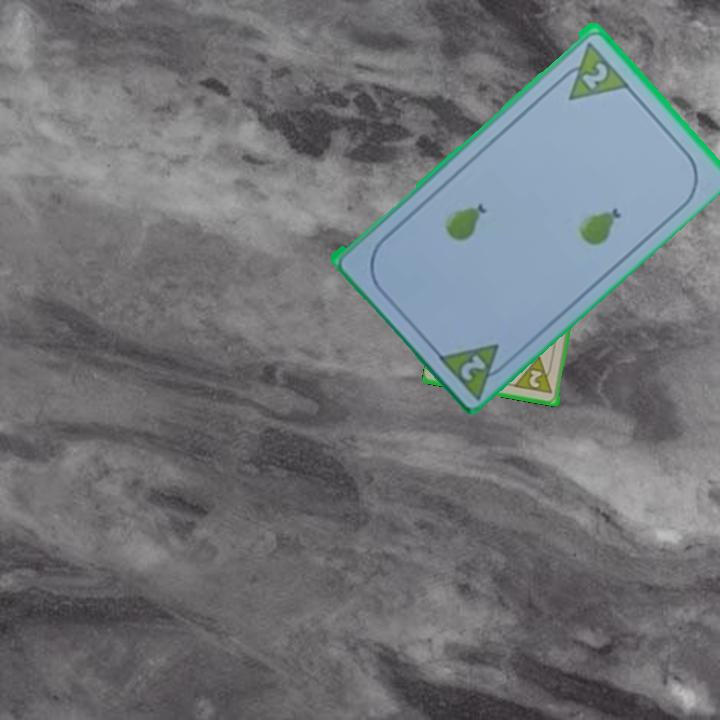2p: (578, 58, 611, 92), (456, 350, 489, 383), (526, 366, 546, 391)
